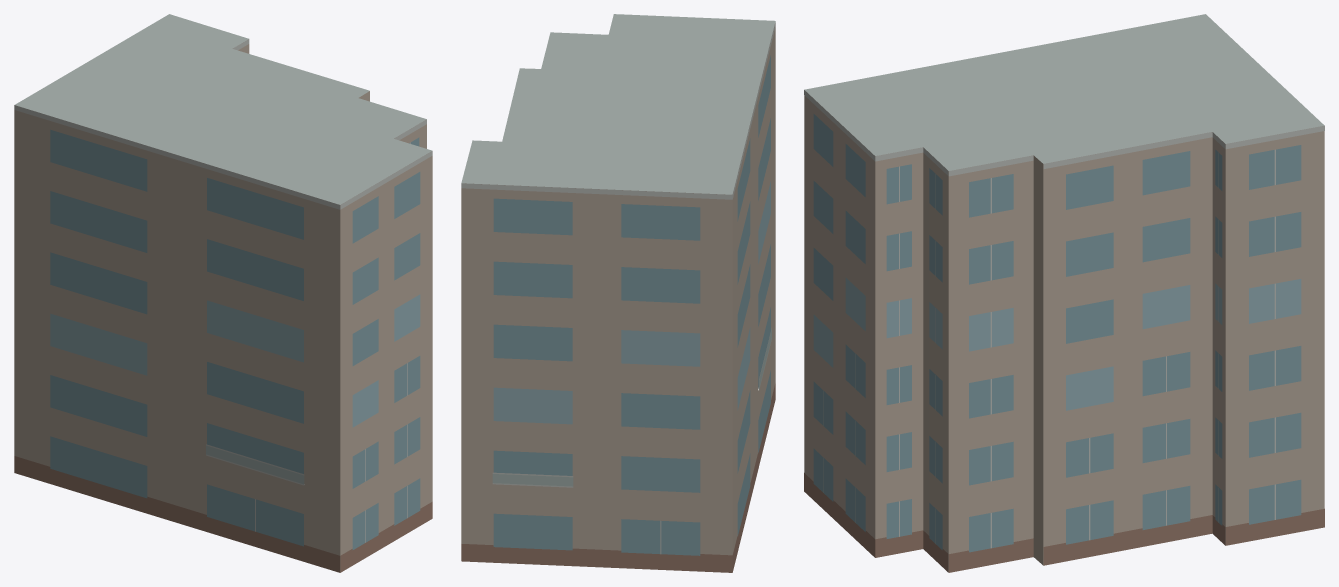
File: survey-upis-32542912.glb
The picture shows the model from 3 angles, left to right: view 1: azimuth 30°, elevation 25°; view 2: azimuth 150°, elevation 25°; view 3: azimuth 270°, elevation 25°; orthographic projection. The views are drawn at different scales.
Parts seen in each view (by area): view 1: survey-upis-32542912.tmp; view 2: survey-upis-32542912.tmp; view 3: survey-upis-32542912.tmp.
Boxes of the visible parts, x1,y1,x2,y2 form: survey-upis-32542912.tmp: [14, 14, 432, 572]; survey-upis-32542912.tmp: [461, 14, 775, 572]; survey-upis-32542912.tmp: [804, 14, 1324, 572].
Bounding box in the file's own units: 15.36 × 18.3 × 21.5.
